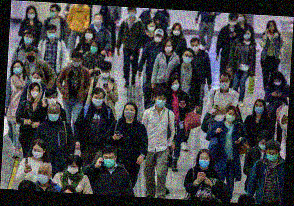with_mask: (37, 170, 51, 185), (102, 154, 116, 169), (47, 110, 61, 123), (199, 155, 212, 169), (31, 147, 45, 159), (124, 107, 136, 121), (265, 150, 280, 161), (67, 163, 80, 175), (156, 96, 167, 109), (220, 78, 231, 91), (259, 139, 270, 152), (25, 52, 37, 63), (93, 95, 105, 106), (182, 53, 193, 65), (226, 111, 237, 123), (12, 64, 23, 75), (171, 81, 182, 92), (254, 103, 265, 114), (31, 87, 40, 100), (84, 30, 94, 41), (31, 75, 42, 85), (47, 95, 57, 106), (94, 16, 103, 28), (272, 78, 284, 87), (23, 35, 33, 45), (46, 30, 56, 40), (101, 69, 111, 79), (191, 43, 201, 53), (71, 58, 82, 67), (90, 44, 99, 54), (154, 34, 163, 44), (242, 33, 253, 41), (128, 9, 137, 18), (164, 44, 173, 53), (173, 27, 181, 37), (229, 18, 239, 26), (28, 10, 36, 19), (148, 24, 157, 32), (49, 9, 57, 17), (238, 15, 245, 24)
without_mask: (268, 23, 276, 33)
